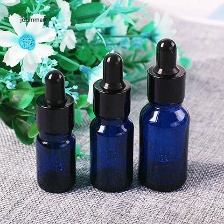bottle: (136, 34, 192, 193), (87, 50, 134, 194), (32, 68, 77, 193)
